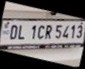character: (17, 24, 26, 40), (8, 24, 17, 39), (36, 24, 44, 39), (44, 24, 52, 39), (54, 24, 62, 39), (62, 24, 70, 38), (76, 24, 83, 39), (70, 24, 76, 39), (31, 24, 36, 39)
